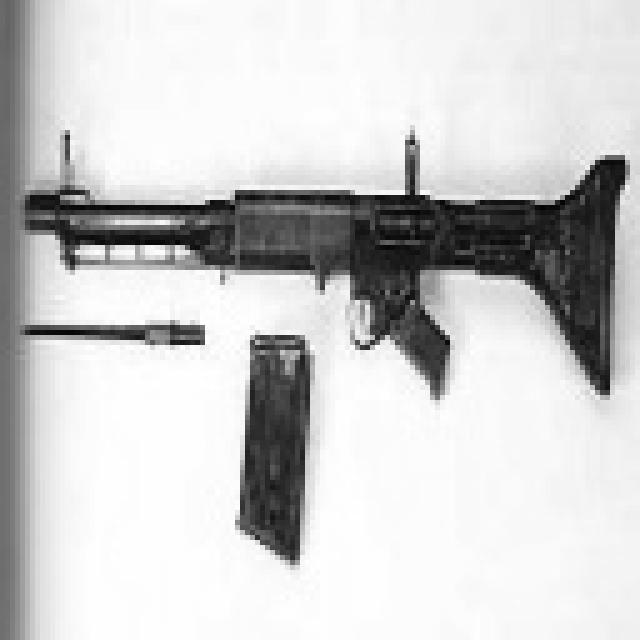Rifle: (0, 113, 640, 428)
